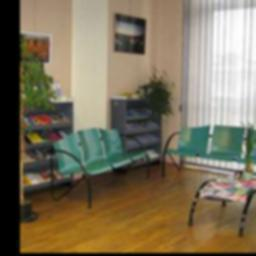Matera: (20, 56, 55, 219), (239, 120, 256, 184)
